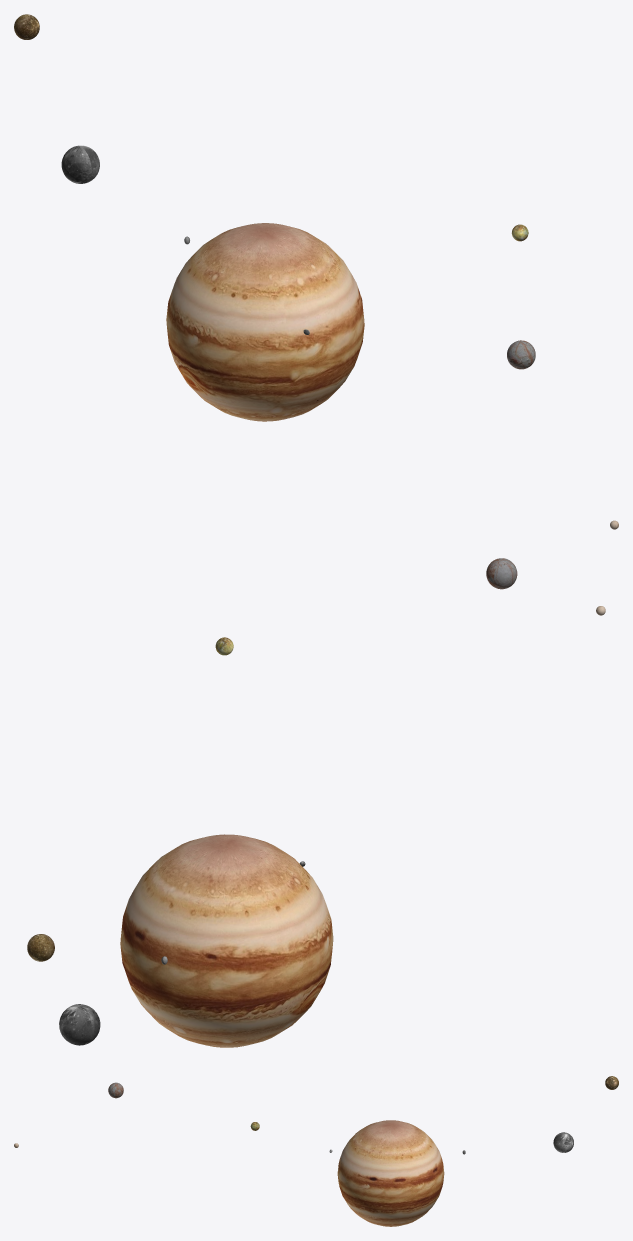
The model's file is jupiter.obj.
3 renders of one model, top to bottom at view 1: azimuth 30°, elevation 25°; view 2: azimuth 150°, elevation 25°; view 3: azimuth 270°, elevation 25°, orthographic. The views are drawn at different scales.
Parts seen in each view (by area): view 1: Jupiter_Mesh, Ganymede_Mesh.002; view 2: Jupiter_Mesh, Ganymede_Mesh.002, Europa_Mesh.001; view 3: Jupiter_Mesh, Ganymede_Mesh.002.
Part boxes in pixels (x1,y1,x2,y2): Jupiter_Mesh: (166, 223, 364, 421); Ganymede_Mesh.002: (61, 145, 99, 183); Jupiter_Mesh: (120, 834, 333, 1047); Ganymede_Mesh.002: (59, 1004, 100, 1045); Europa_Mesh.001: (486, 558, 517, 589); Jupiter_Mesh: (337, 1120, 444, 1226); Ganymede_Mesh.002: (553, 1132, 573, 1152).
Size of the model in its own units: 68.3 by 75.9 by 300.
Materials: 7 (7 with a texture image).
